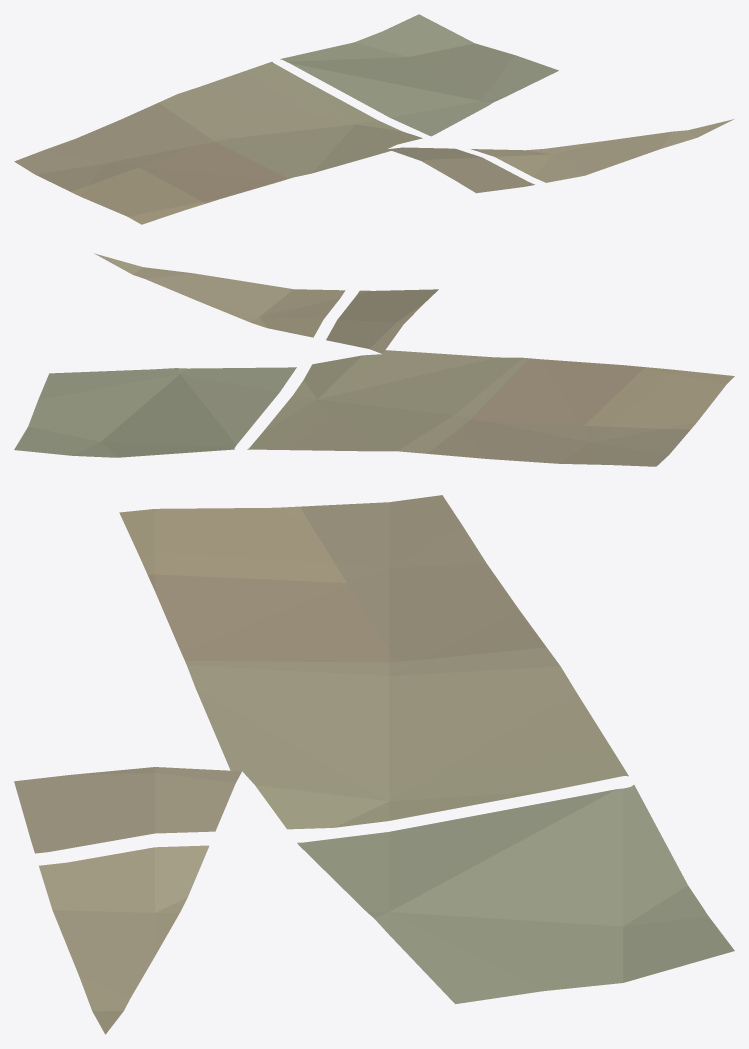
The model's file is farm_-32_-32_soil.glb.
3 views of the same model, one above another, from view 1: azimuth 30°, elevation 25°; view 2: azimuth 150°, elevation 25°; view 3: azimuth 270°, elevation 25° (orthographic). The views are drawn at different scales.
Visible parts, largest first — view 1: geometry_0; view 2: geometry_0; view 3: geometry_0.
Boxes of the visible parts, left/top/right/bottom form: geometry_0: left=14, top=14, right=734, bottom=224; geometry_0: left=14, top=253, right=734, bottom=466; geometry_0: left=14, top=495, right=734, bottom=1034.
Size of the model in its own units: 395 by 32 by 246.
